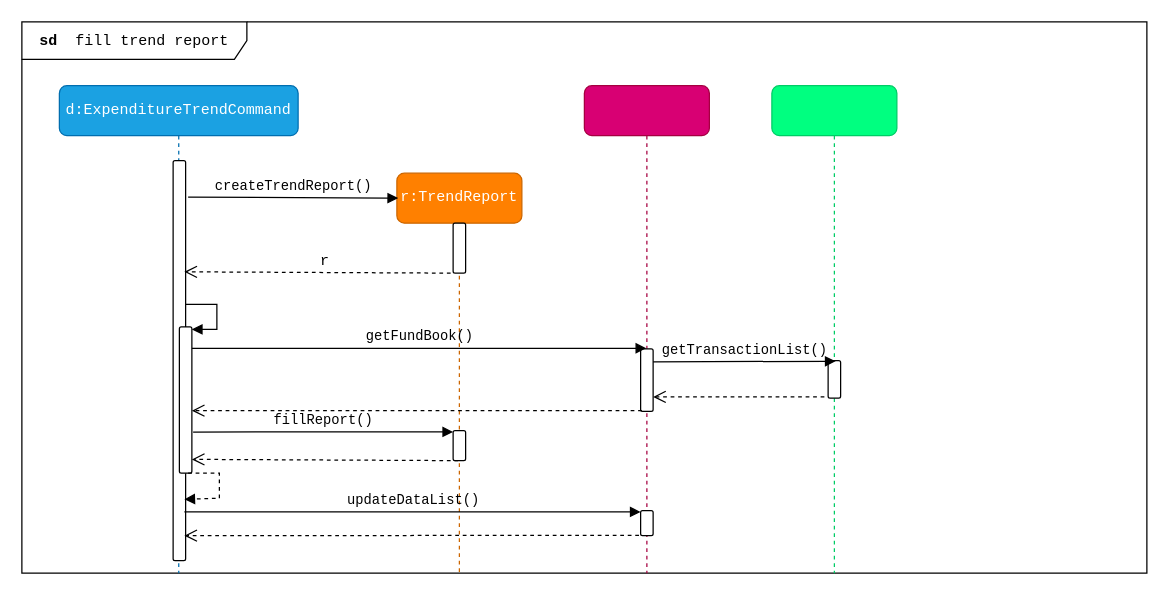
This 1169x595 diagram has some shape labels left out. Here are the shapes that lost their labels. From the top down, the centre of each, then its label:
At (646,328): ":Model".
At (834,328): ":FundBook".
